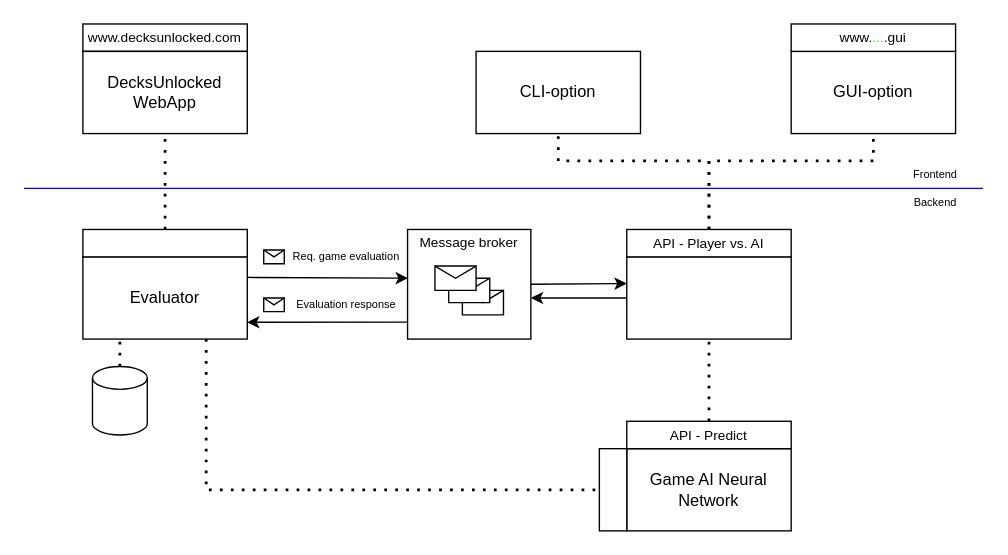
This 1008x555 diagram has some shape labels left out. Each missing label, with the centre of its shape:
"API" goes at [164,242].
"API - Train NN" goes at [612,489].
"Game AI Calculator" goes at [708,297].
"Game data" goes at [119,400].
